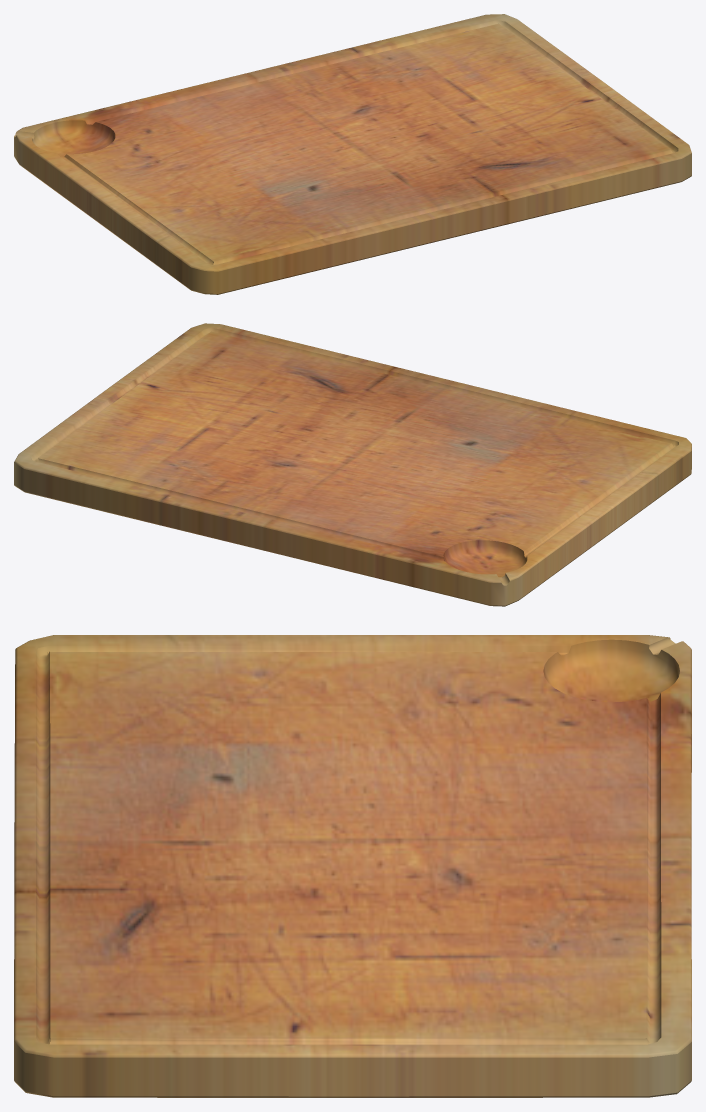
Rendered from sweethome3d-contributions-chopping-board-313.glb.
3 views of the same model, one above another, from view 1: azimuth 30°, elevation 25°; view 2: azimuth 150°, elevation 25°; view 3: azimuth 270°, elevation 25° (orthographic). The views are drawn at different scales.
Visible parts, largest first — view 1: planche_a_decouper; view 2: planche_a_decouper; view 3: planche_a_decouper.
Part boxes in pixels (x1,y1,x2,y2): planche_a_decouper: (14, 14, 691, 294); planche_a_decouper: (14, 323, 691, 606); planche_a_decouper: (14, 635, 691, 1097).
Bounding box in the file's own units: 35 × 1.7 × 23.8.
Materials: 1 (1 with a texture image).
